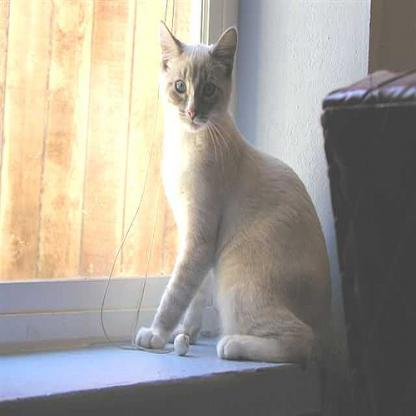cat: (136, 11, 337, 370)
